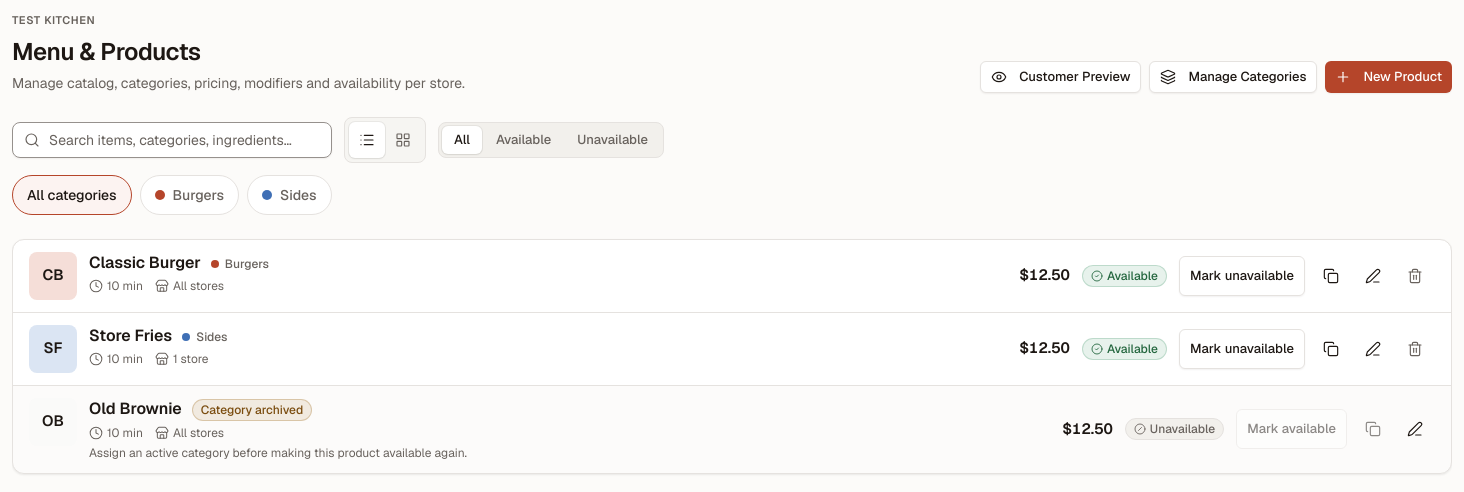
loading and error states › filters by availability
Expected: the heading "Classic Burger" is shown, [89,252,201,274]
Click the radio button labelled "Unavailable" at x=613, y=140, box [565,126,660,154]
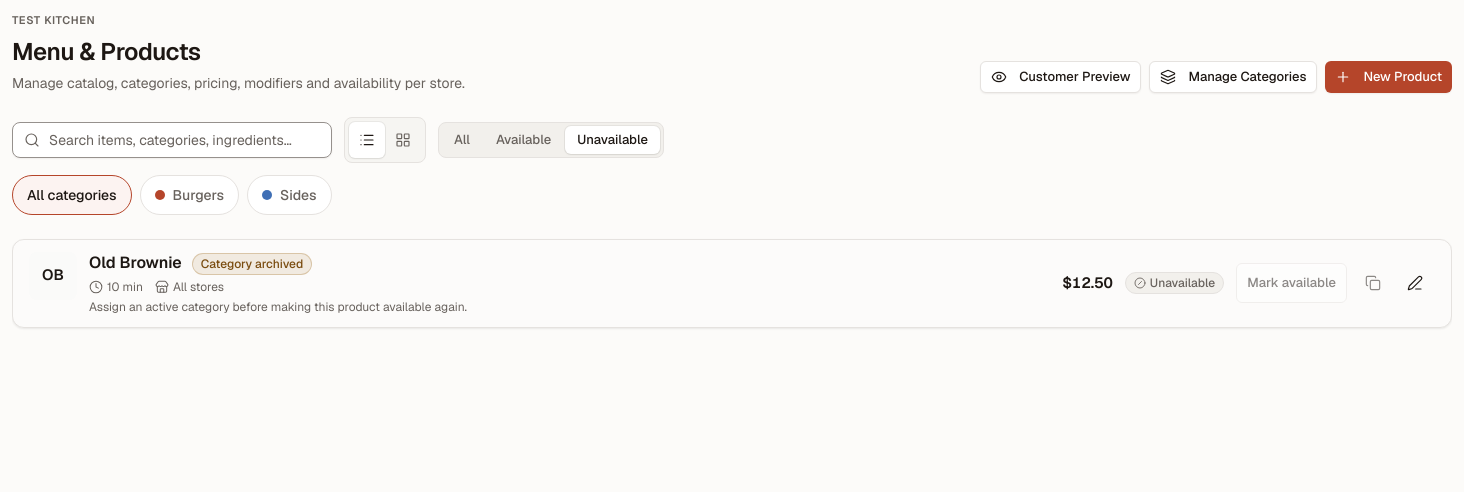
Expected: the heading "Old Brownie" is shown, [89,252,182,274]
Expected: the heading "Classic Burger" is gone
